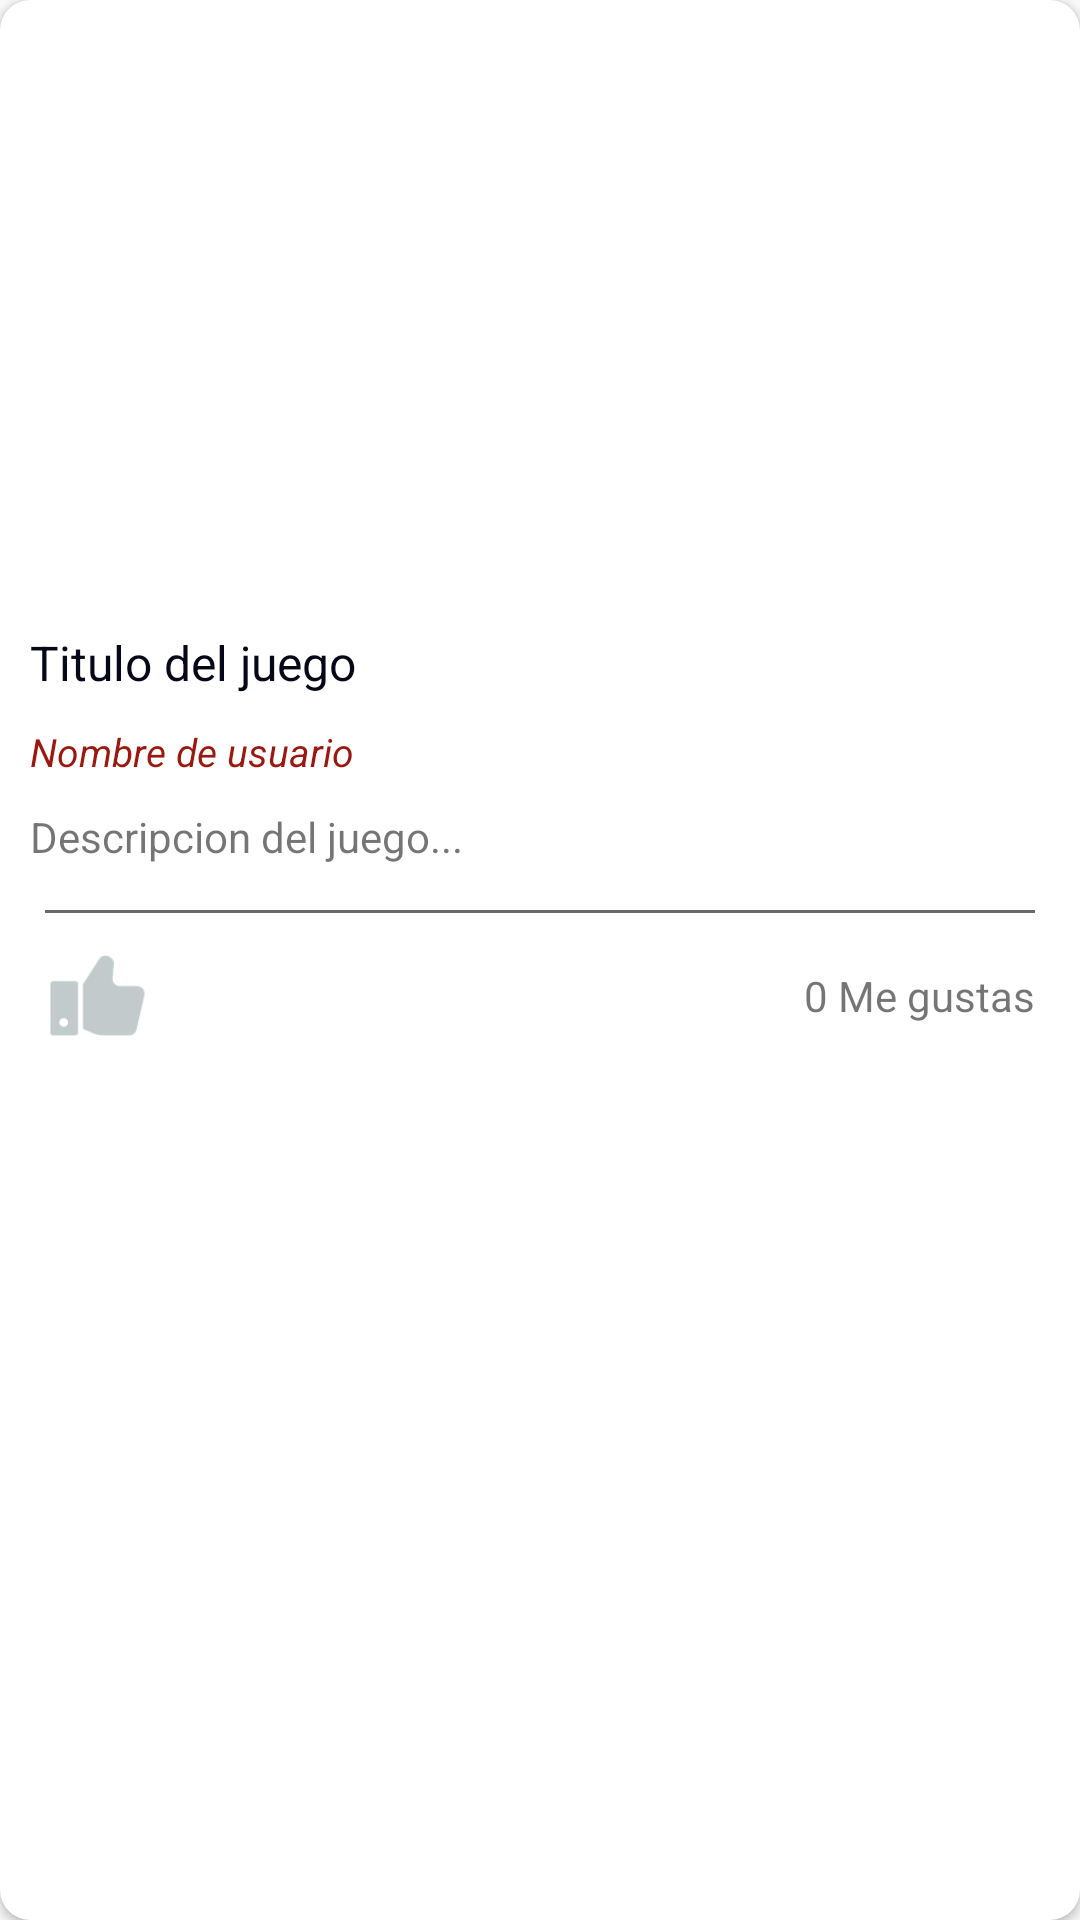

Locate icon controls on the screen. Image size 1080 × 1920, boxes as Rect(x1, y1, x2, y2).
like: Rect(50, 956, 145, 1036)
